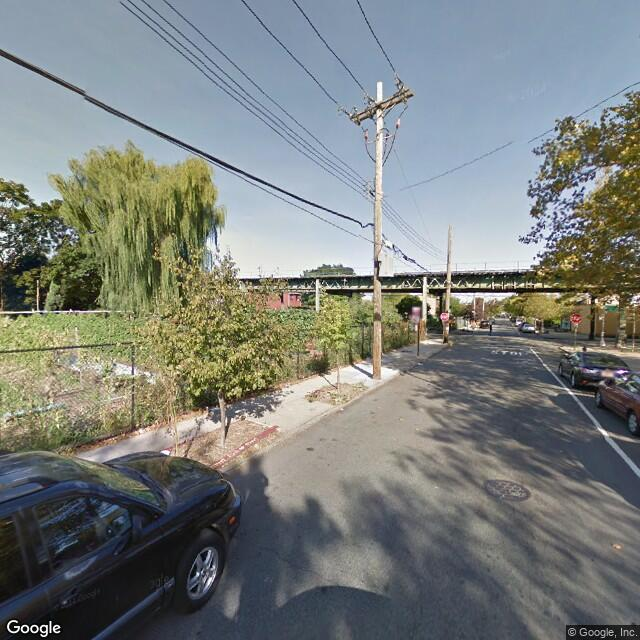litter: (162, 448, 172, 455), (340, 407, 345, 410), (418, 364, 423, 365)
